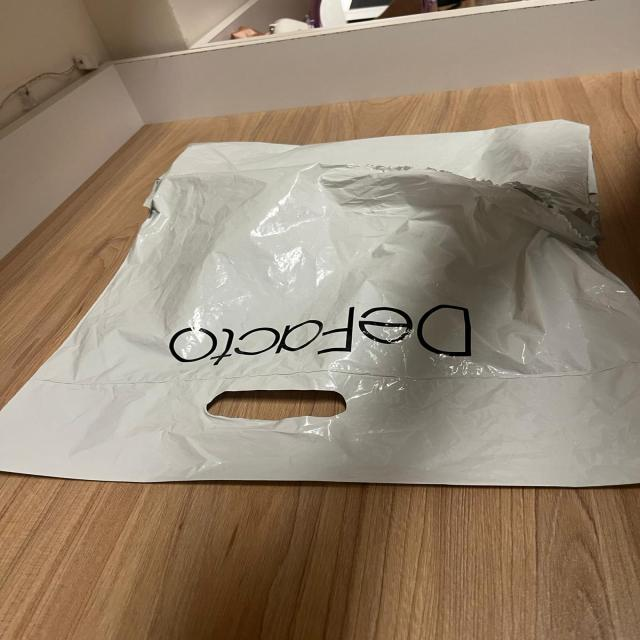damaged_package: (0, 120, 640, 487)
